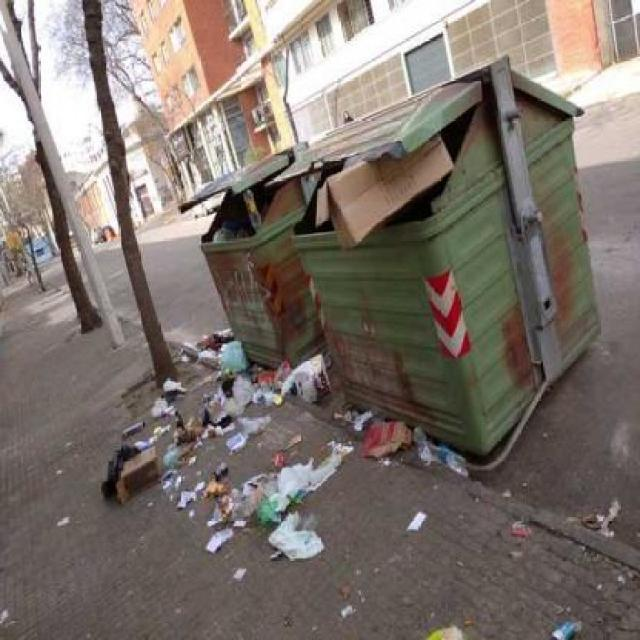garbage: (120, 388, 431, 546), (286, 160, 452, 268), (188, 331, 336, 405), (189, 188, 310, 250), (292, 351, 326, 412)
